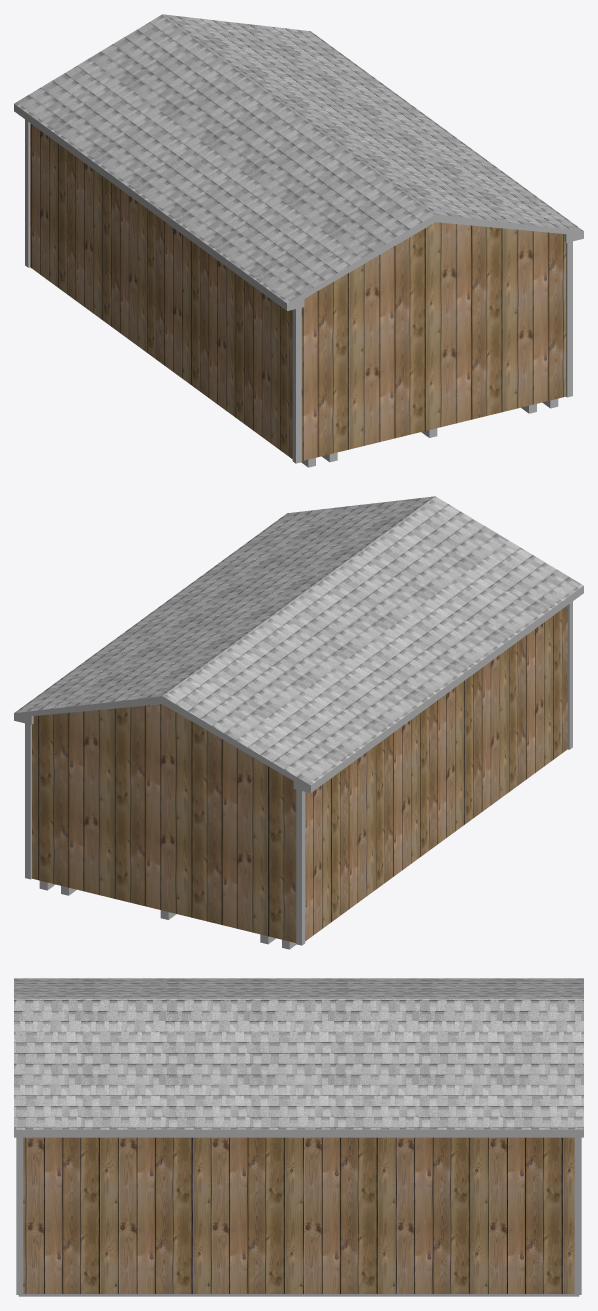
Rendered from A-frame_12x20.obj.
The picture shows the model from 3 angles, top to bottom: view 1: azimuth 30°, elevation 25°; view 2: azimuth 150°, elevation 25°; view 3: azimuth 270°, elevation 25°; orthographic projection. The views are drawn at different scales.
Parts seen in each view (by area): view 1: Shed, Roof, Sides, Trim; view 2: Shed, Roof, Sides, Trim; view 3: Shed, Roof, Sides, Trim, Floor.
Part boxes in pixels (box(x1,y1,x2,y2)): Shed: box(30, 123, 565, 460); Roof: box(14, 14, 583, 303); Sides: box(14, 104, 583, 310); Trim: box(25, 119, 572, 463); Shed: box(32, 605, 567, 942); Roof: box(14, 496, 583, 785); Sides: box(14, 586, 583, 792); Trim: box(25, 601, 572, 945); Shed: box(23, 1137, 574, 1293); Roof: box(14, 978, 583, 1129); Sides: box(14, 1129, 583, 1137); Trim: box(16, 1137, 581, 1294); Floor: box(18, 1294, 579, 1296).
Size of the model in its own units: 3.89 by 2.81 by 6.2.
